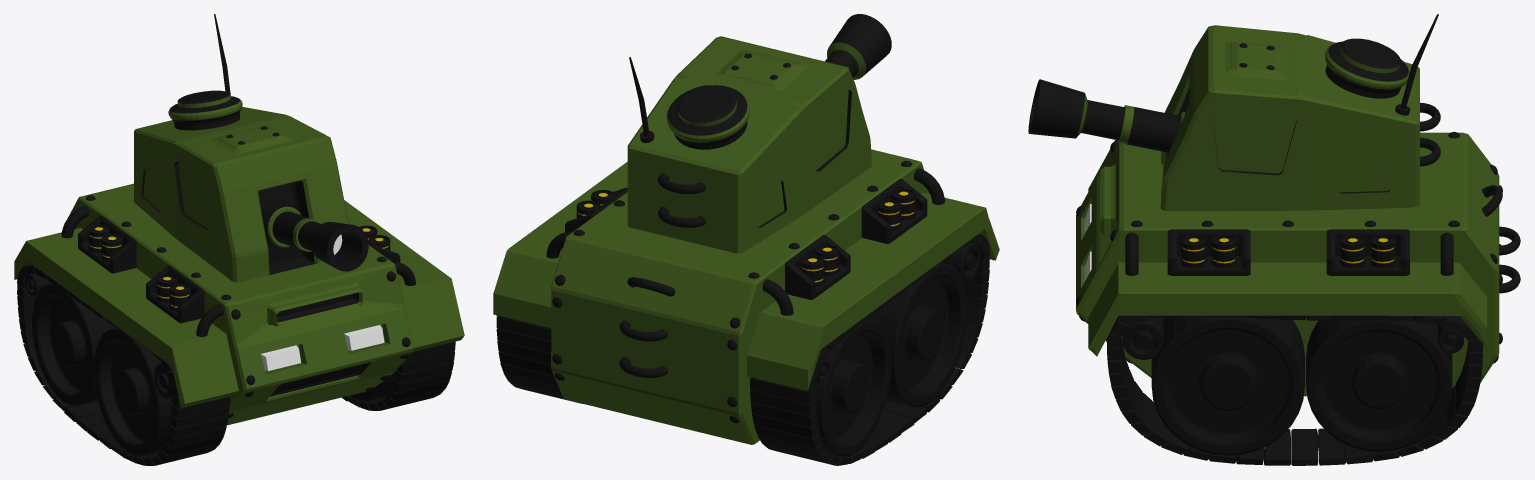
File: tank_2_green.fbx
3 views of the same model, side by side, from view 1: azimuth 30°, elevation 25°; view 2: azimuth 150°, elevation 25°; view 3: azimuth 270°, elevation 25° (orthographic). The views are drawn at different scales.
Parts seen in each view (by area): view 1: Base.019, Turret.019, Tracks.013, Wheels.034, Details.012, Wheels.033, Canon.019, Entrance.019; view 2: Base.019, Turret.019, Tracks.013, Details.012, Wheels.034, Wheels.033, Entrance.019, Canon.019, Ladder.018, Ladder.019, Wheels.035, Antenna.003; view 3: Base.019, Turret.019, Wheels.034, Wheels.033, Tracks.013, Details.012, Canon.019, Entrance.019, Wheels.035, Ladder.018, Ladder.019, Antenna.003 (+1 smaller).
Part boxes in pixels (x1=…): Base.019: x1=14, y1=183, x2=464, y2=425; Turret.019: x1=134, y1=107, x2=348, y2=282; Tracks.013: x1=17, y1=264, x2=455, y2=465; Wheels.034: x1=94, y1=328, x2=394, y2=456; Details.012: x1=61, y1=195, x2=415, y2=417; Wheels.033: x1=32, y1=284, x2=116, y2=406; Canon.019: x1=261, y1=200, x2=368, y2=271; Entrance.019: x1=168, y1=90, x2=242, y2=130; Base.019: x1=493, y1=149, x2=999, y2=444; Turret.019: x1=627, y1=36, x2=871, y2=253; Tracks.013: x1=496, y1=234, x2=989, y2=465; Details.012: x1=546, y1=160, x2=944, y2=423; Wheels.034: x1=867, y1=262, x2=967, y2=407; Wheels.033: x1=815, y1=319, x2=891, y2=456; Entrance.019: x1=666, y1=85, x2=749, y2=149; Canon.019: x1=825, y1=14, x2=891, y2=79; Ladder.018: x1=619, y1=277, x2=675, y2=377; Ladder.019: x1=658, y1=173, x2=706, y2=227; Wheels.035: x1=940, y1=243, x2=981, y2=281; Antenna.003: x1=629, y1=57, x2=654, y2=142; Base.019: x1=1076, y1=132, x2=1499, y2=396; Turret.019: x1=1160, y1=25, x2=1419, y2=211; Wheels.034: x1=1151, y1=315, x2=1304, y2=455; Wheels.033: x1=1306, y1=315, x2=1452, y2=451; Tracks.013: x1=1106, y1=315, x2=1482, y2=465; Details.012: x1=1076, y1=131, x2=1502, y2=363; Canon.019: x1=1028, y1=79, x2=1185, y2=152; Entrance.019: x1=1325, y1=38, x2=1409, y2=98; Wheels.035: x1=1122, y1=317, x2=1164, y2=359; Ladder.018: x1=1482, y1=185, x2=1520, y2=293; Ladder.019: x1=1420, y1=102, x2=1440, y2=166; Antenna.003: x1=1395, y1=14, x2=1438, y2=115.
Size of the model in its own units: 162 by 186 by 210.
